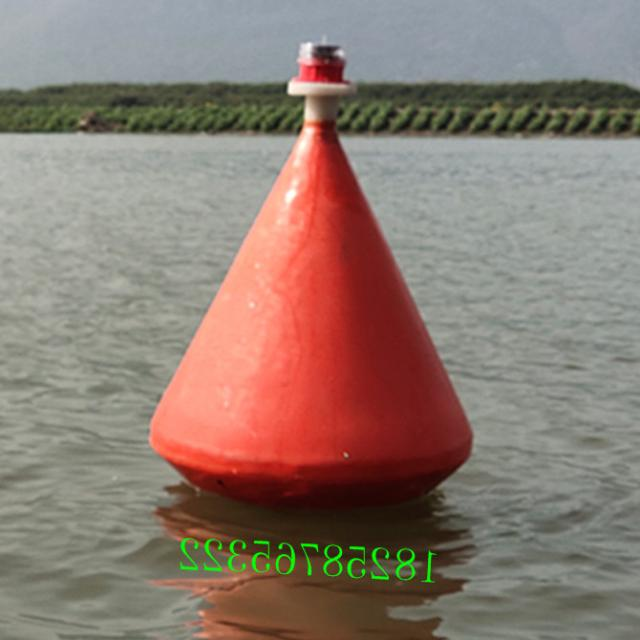buoy: (147, 32, 476, 504)
